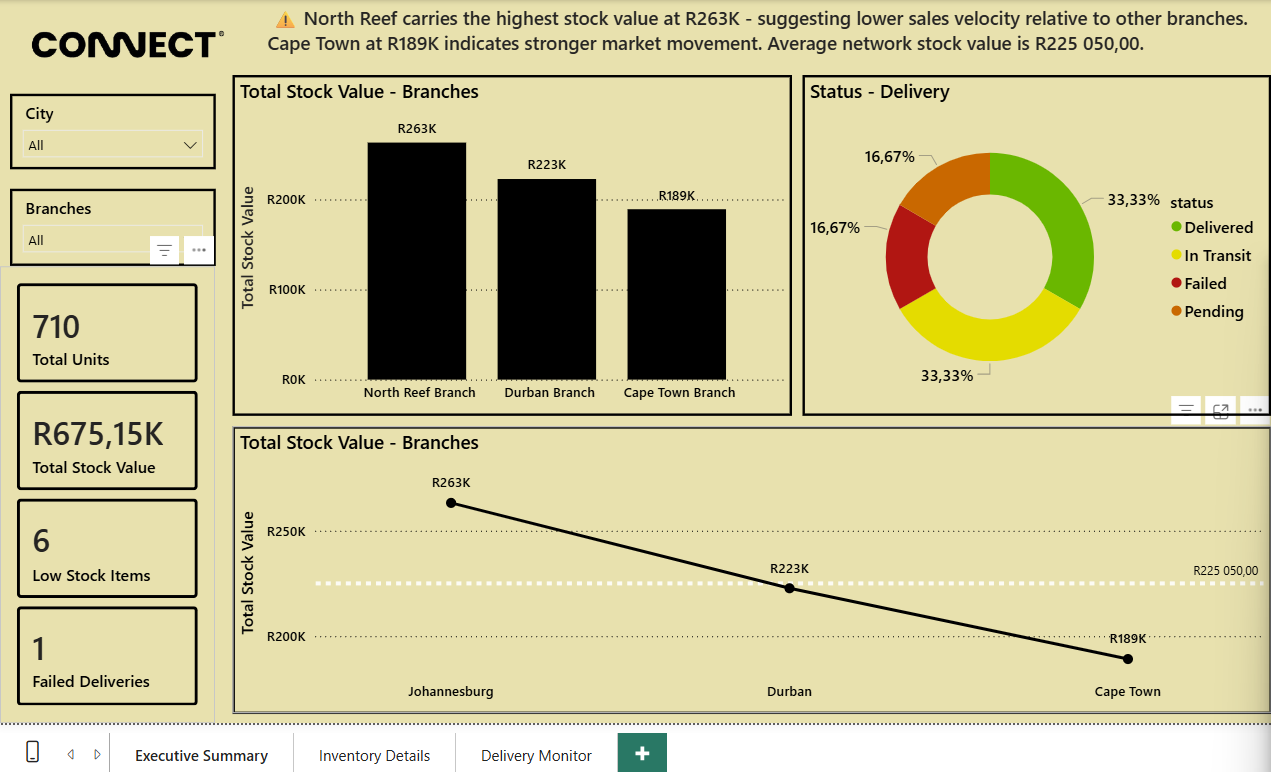

What the dashboard file says about the page in this screenshot:
{"tool":"powerbi","page":{"name":"Executive Summary","canvas":[1280,720],"ordinal":0},"visuals":[{"type":"cardVisual","fields":{"Data":["KPI Measures.Total Units","KPI Measures.Total Stock Value","KPI Measures.Low Stock Items","KPI Measures.Failed Deliveries"]},"box":[5.5,264.8,214.1,455.6],"z":0},{"type":"lineChart","title":"Total Stock Value - Branches","fields":{"Y":["KPI Measures.Total Stock Value"],"Category":["branches.city"]},"box":[236,424,1034.7,286.8],"z":1000},{"type":"columnChart","title":"Total Stock Value - Branches","fields":{"Category":["branches.branch_name"],"Y":["KPI Measures.Total Stock Value"]},"box":[236,74.1,557.1,338.9],"z":2000},{"type":"slicer","fields":{"Values":["branches.branch_name"]},"box":[15.1,188,204.5,76.8],"z":3000},{"type":"slicer","fields":{"Values":["branches.city"]},"box":[15.1,93.3,204.5,75.5],"z":4000},{"type":"image","box":[0,0,247,93.3],"z":5000},{"type":"textbox","box":[266.2,0,1014.1,74.1],"z":6000},{"type":"donutChart","title":"Status - Delivery","fields":{"Y":["CountNonNull(deliveries.status)"],"Category":["deliveries.status"]},"box":[804.1,74.1,466.6,338.9],"z":7000}]}

Visuals, with their boxes on the page's 1280x720 design canvas (x1, y1, x2, y2). These are canvas units, not pixel positions in the 1271x772 screenshot, which may show the page scaled, cropped or inside an application window:
cardVisual - KPI Measures.Total Units x KPI Measures.Total Stock Value: select_region(6, 265, 220, 720)
"Total Stock Value - Branches" lineChart: select_region(236, 424, 1271, 711)
"Total Stock Value - Branches" columnChart: select_region(236, 74, 793, 413)
slicer - branches.branch_name: select_region(15, 188, 220, 265)
slicer - branches.city: select_region(15, 93, 220, 169)
image: select_region(0, 0, 247, 93)
textbox: select_region(266, 0, 1280, 74)
"Status - Delivery" donutChart: select_region(804, 74, 1271, 413)
